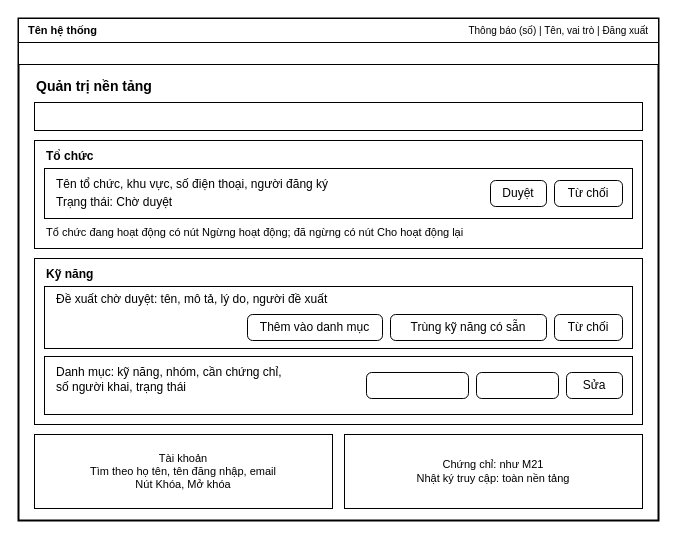
The diagram is 676 pixels wide and 538 high, and some of its shapes have lost their labels. The box of each missing label's shape, as (x1, y1, x2, y2) in pixels:
Thêm kỹ năng: (366, 372, 468, 398)
Thêm nhóm: (476, 372, 558, 398)
Thẻ: Tổ chức | Kỹ năng | Chứng chỉ | Tài khoản | Nhật ký truy cập: (34, 102, 642, 130)
Trang chủ | Tìm ca làm | Quản trị: (18, 42, 658, 64)
